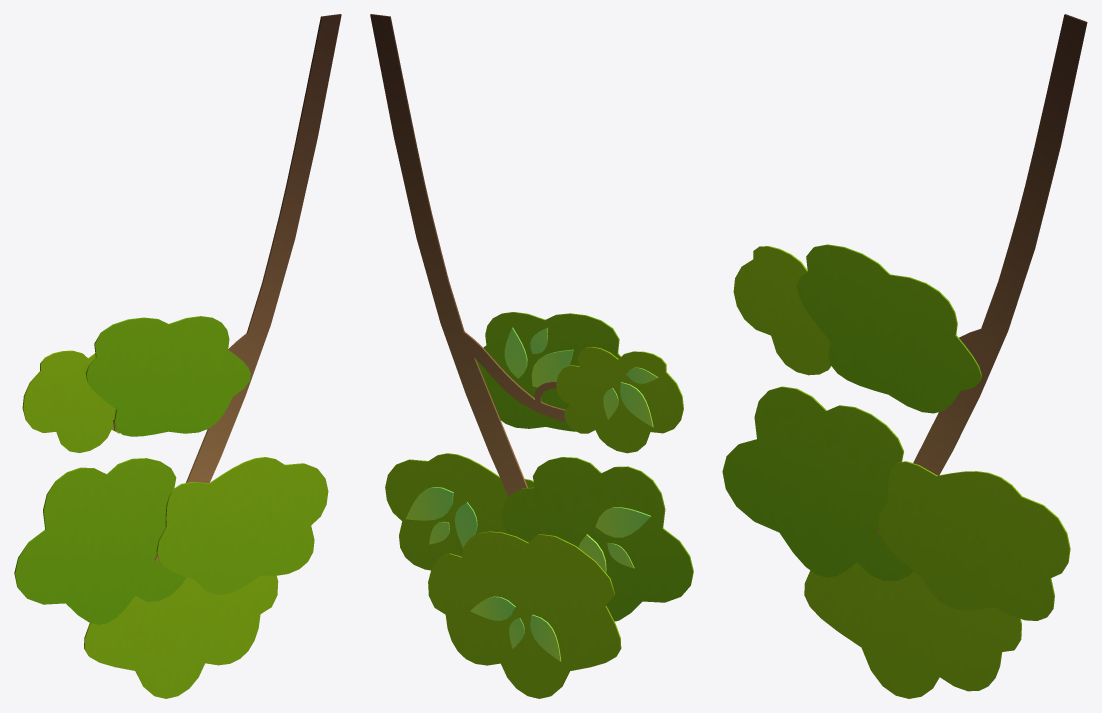
File: obj-boom-6.FBX
3 renders of one model, left to right at view 1: azimuth 30°, elevation 25°; view 2: azimuth 150°, elevation 25°; view 3: azimuth 330°, elevation 25°, orthographic. The views are drawn at different scales.
Parts seen in each view (by area): view 1: boom 6; view 2: boom 6; view 3: boom 6.
Boxes of the visible parts, bbox=[...] form: boom 6: bbox=[14, 14, 341, 698]; boom 6: bbox=[370, 14, 693, 698]; boom 6: bbox=[722, 14, 1087, 698].
Size of the model in its own units: 9.82 by 18.63 by 0.3116.
1 material, 1 textured.
